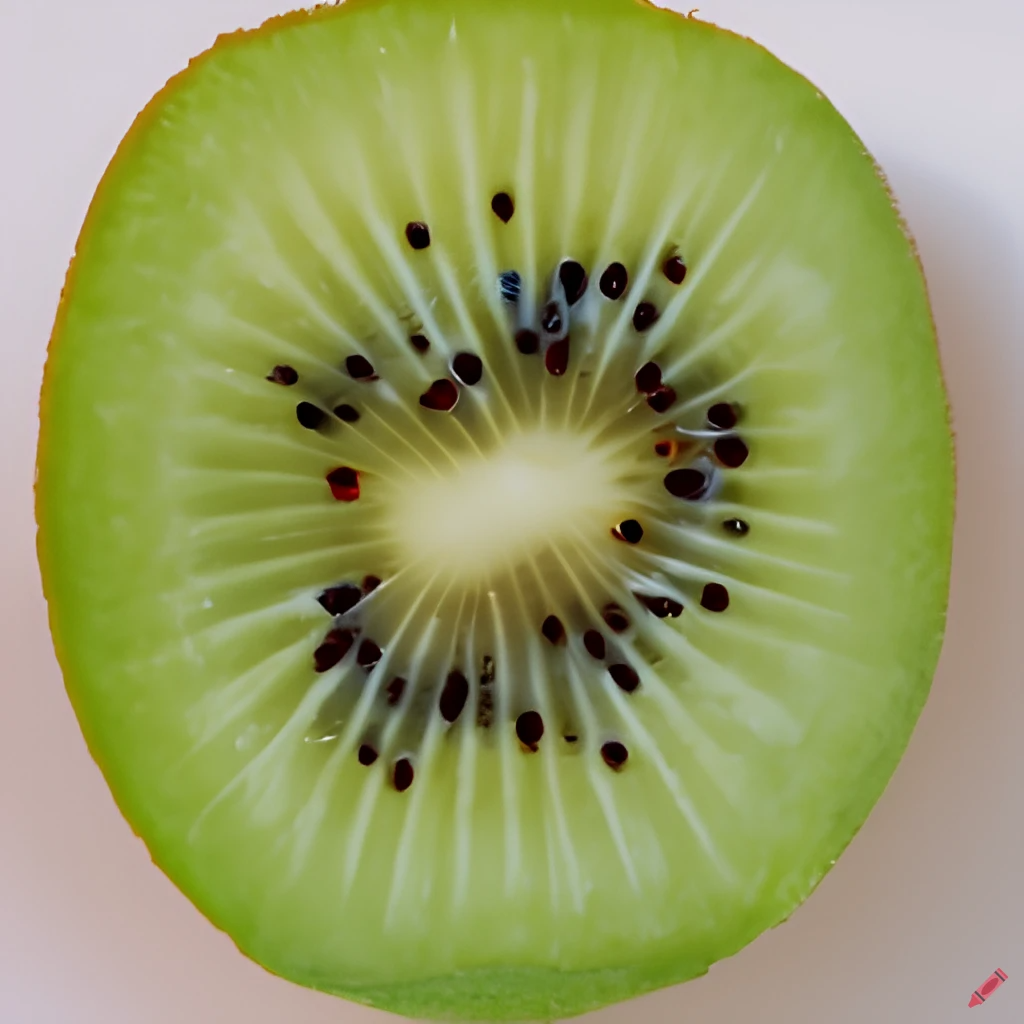Kiwi: (27, 0, 964, 1004)
